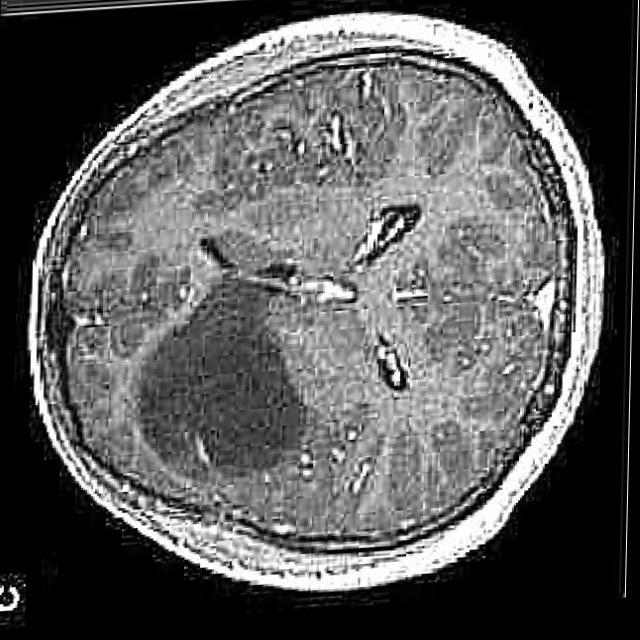Tumor: (137, 283, 308, 492)
